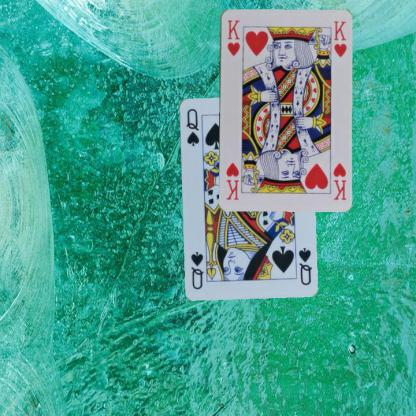Kh: (330, 160, 348, 201), (225, 18, 241, 58)
Qs: (296, 244, 313, 286), (183, 106, 200, 146)
